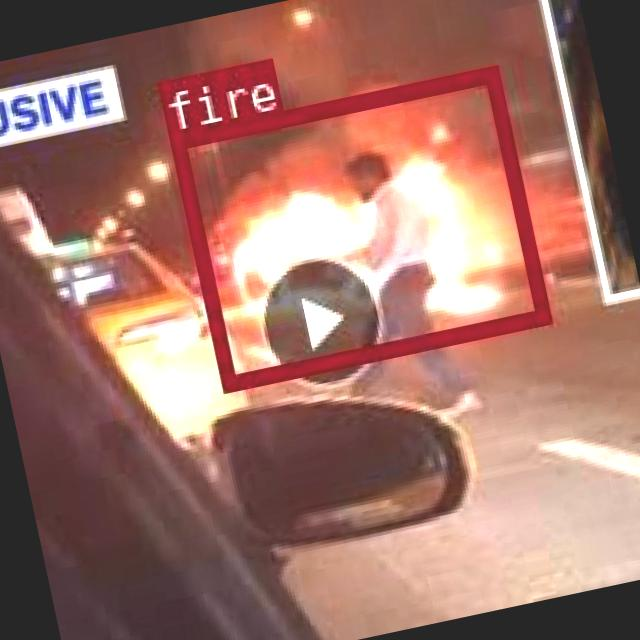fire: (167, 63, 546, 388)
